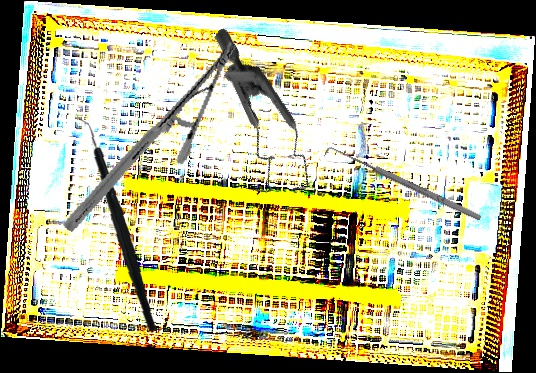Chopper: (61, 116, 169, 332)
Hook Surgical: (323, 142, 483, 228)
Needle Holder: (61, 14, 240, 259)
Speculum: (155, 26, 355, 215)
